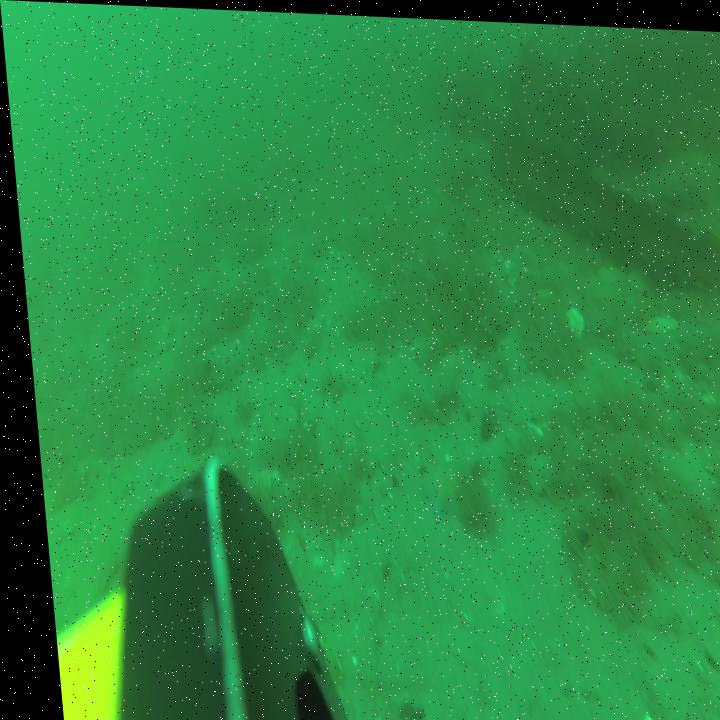scallop: (514, 443, 547, 490), (637, 306, 672, 328), (560, 300, 579, 334)
starfish: (411, 449, 454, 510), (435, 348, 460, 380)
